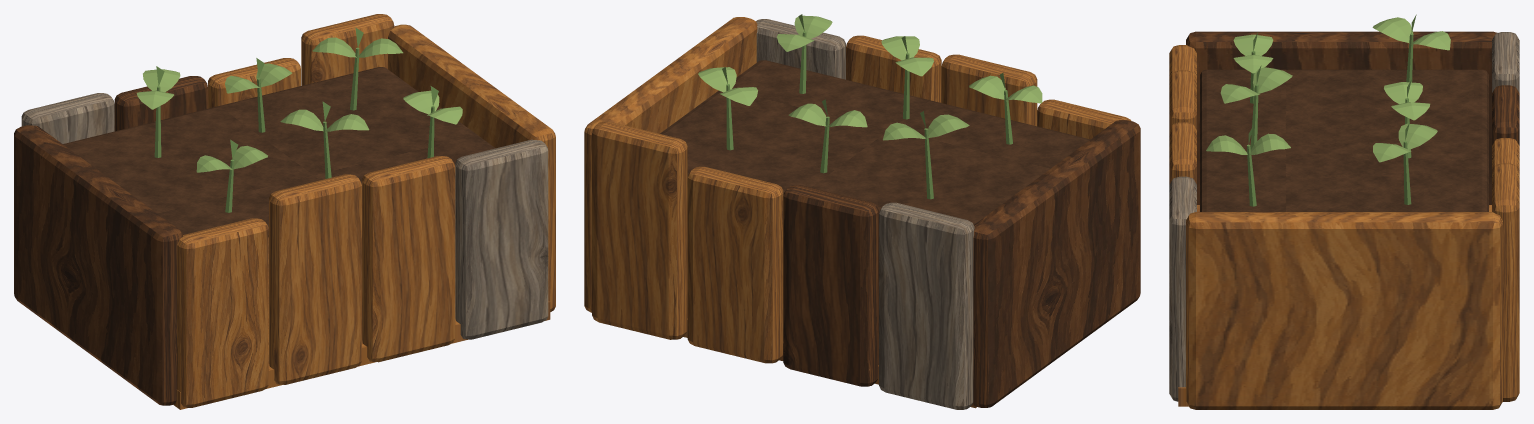
Rendered from planter-seedling.glb.
3 renders of one model, left to right at view 1: azimuth 30°, elevation 25°; view 2: azimuth 150°, elevation 25°; view 3: azimuth 270°, elevation 25°, orthographic. The views are drawn at different scales.
Parts seen in each view (by area): view 1: GEO-PlanterV2-Wood.001, GEO-PlanterV2-Soil.001, GEO-Seedling-PlantGreenLight, GEO-Seedling-PlantGreen; view 2: GEO-PlanterV2-Wood.001, GEO-PlanterV2-Soil.001, GEO-Seedling-PlantGreenLight, GEO-Seedling-PlantGreen; view 3: GEO-PlanterV2-Wood.001, GEO-PlanterV2-Soil.001, GEO-Seedling-PlantGreenLight, GEO-Seedling-PlantGreen.
Part boxes in pixels (<box>): GEO-PlanterV2-Wood.001: <box>14,14,555,409</box>; GEO-PlanterV2-Soil.001: <box>63,67,495,236</box>; GEO-Seedling-PlantGreenLight: <box>137,37,462,172</box>; GEO-Seedling-PlantGreen: <box>154,27,438,212</box>; GEO-PlanterV2-Wood.001: <box>584,17,1140,409</box>; GEO-PlanterV2-Soil.001: <box>660,60,1090,224</box>; GEO-Seedling-PlantGreenLight: <box>698,15,1042,140</box>; GEO-Seedling-PlantGreen: <box>722,14,1012,199</box>; GEO-PlanterV2-Wood.001: <box>1169,31,1519,409</box>; GEO-PlanterV2-Soil.001: <box>1200,69,1488,211</box>; GEO-Seedling-PlantGreenLight: <box>1206,17,1450,162</box>; GEO-Seedling-PlantGreen: <box>1247,14,1416,206</box>.
Size of the model in its own units: 1.18 by 0.678 by 0.862.
Materials: 6 (4 with a texture image).
